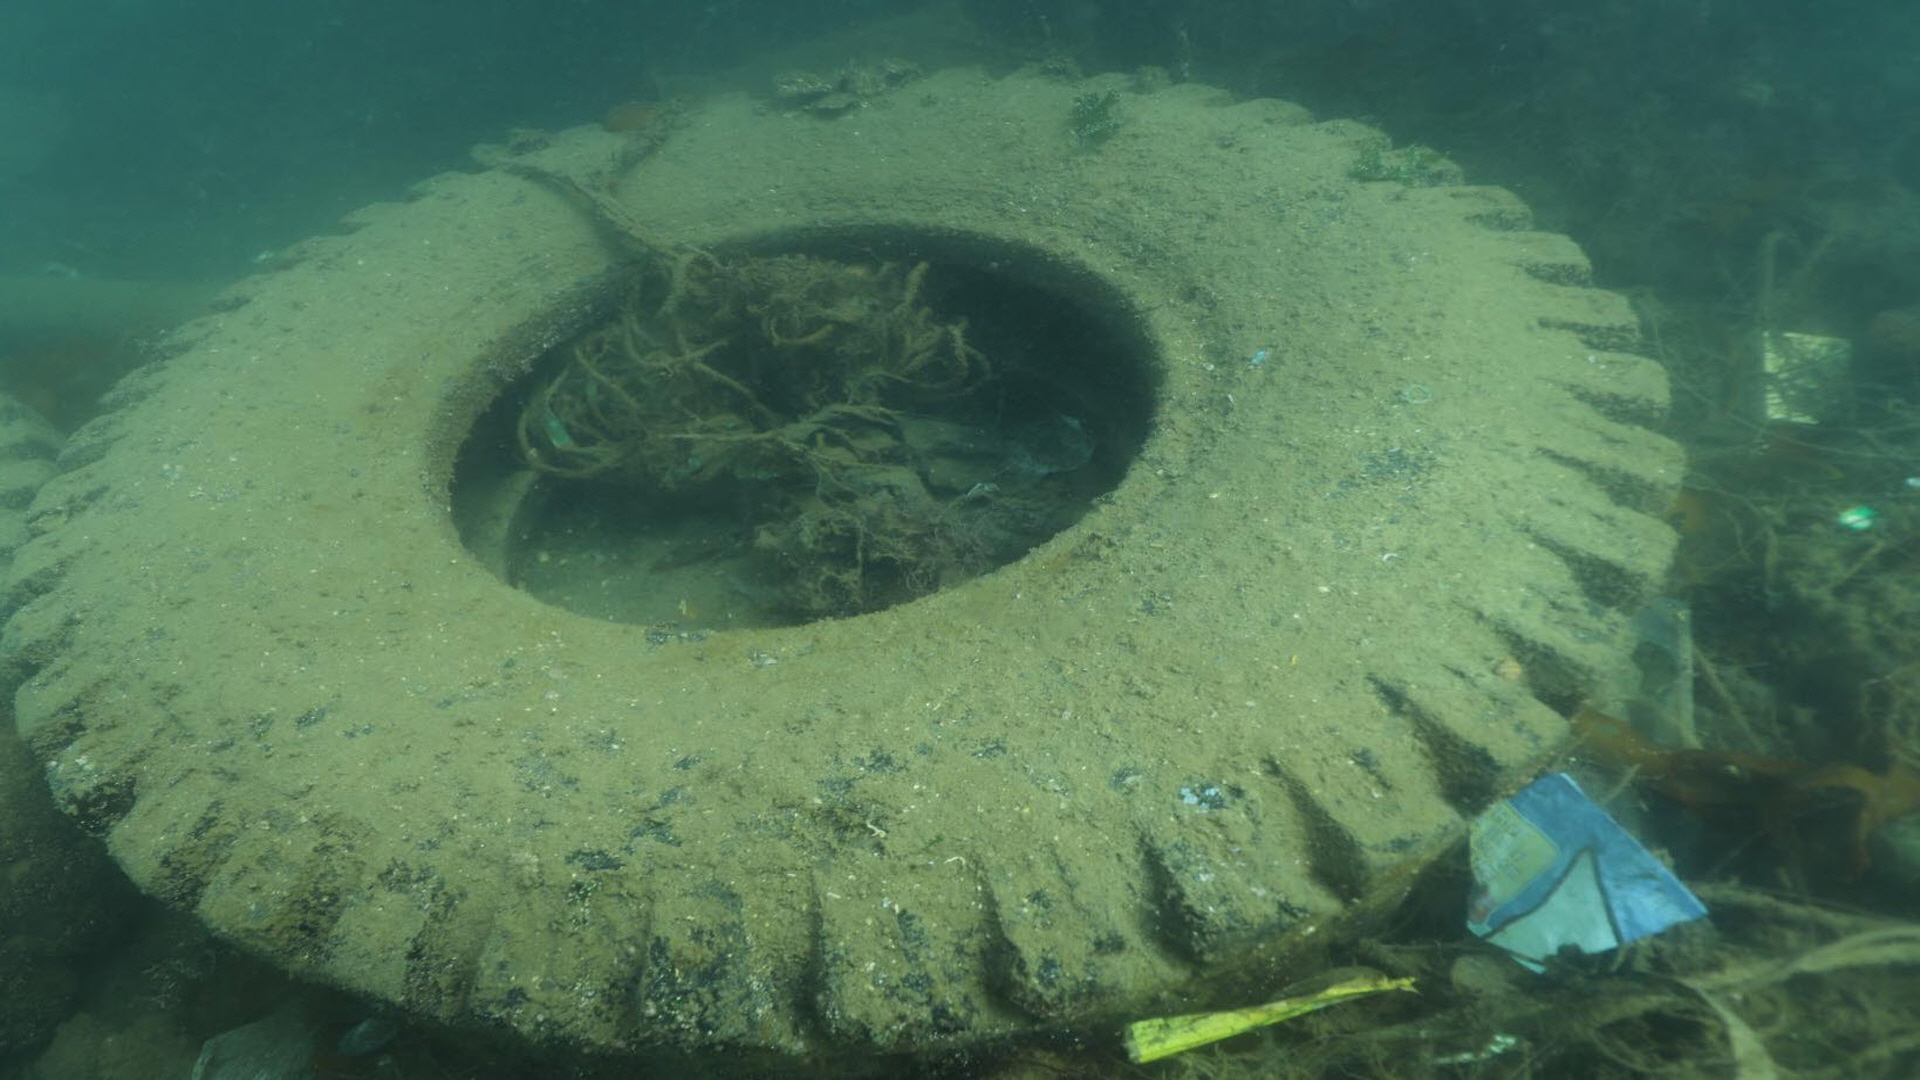bundle of ropes: (501, 152, 928, 516)
tire: (0, 61, 1683, 1080)
